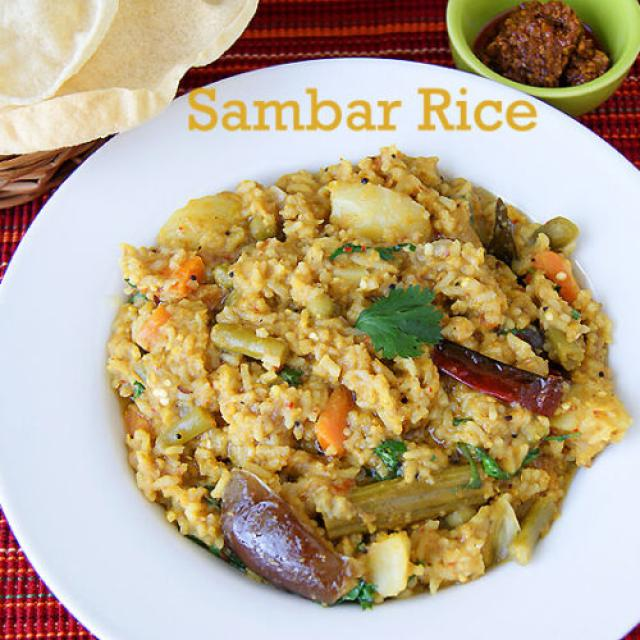veg meals: (102, 142, 640, 608)
